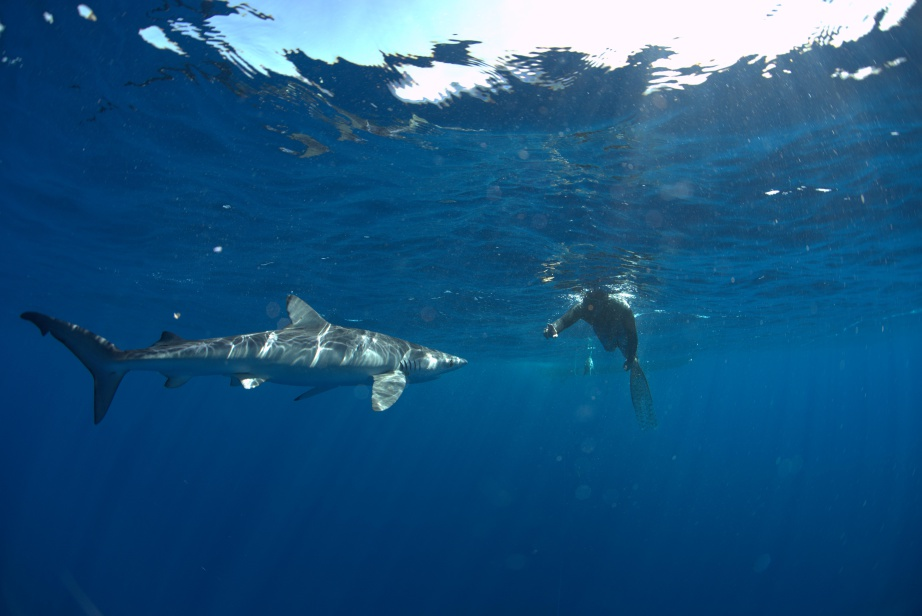Azul: (13, 270, 481, 438)
